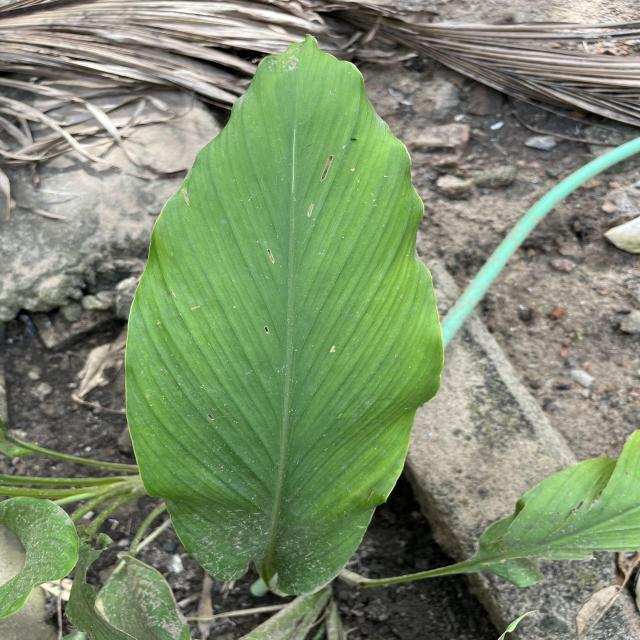Curcuma longa: (121, 29, 446, 600)
